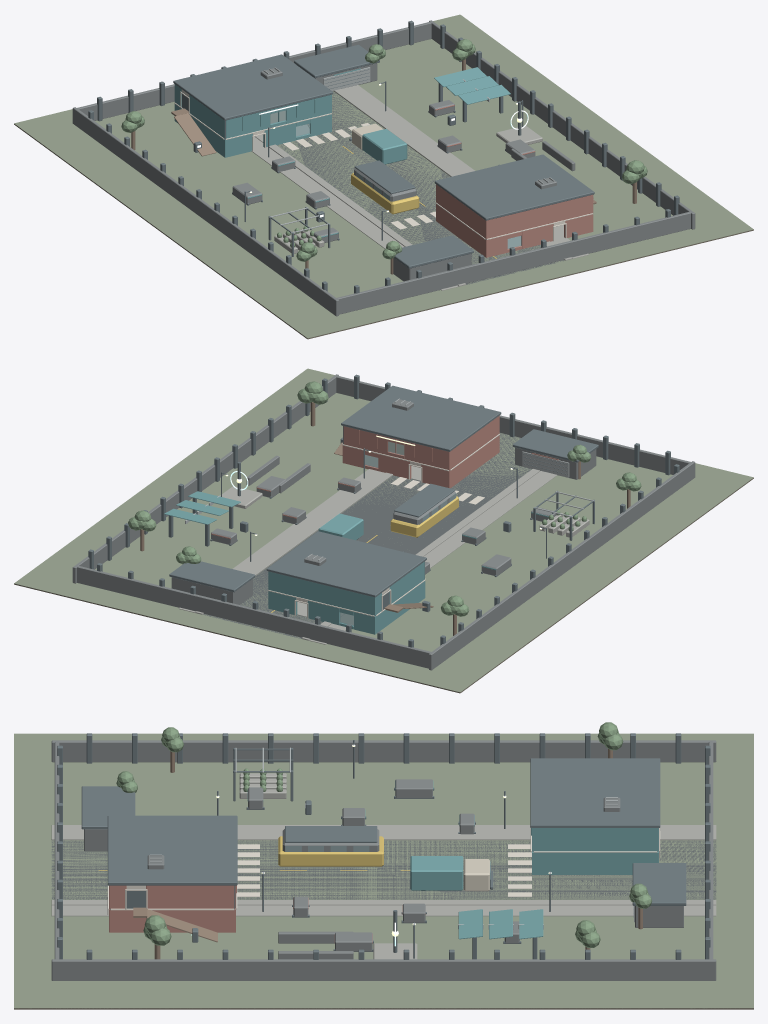
Rendered from atomic-acres-blender-arena.glb.
3 renders of one model, top to bottom at view 1: azimuth 30°, elevation 25°; view 2: azimuth 150°, elevation 25°; view 3: azimuth 270°, elevation 25°, orthographic. The views are drawn at different scales.
Visible parts, largest first — view 1: BLD_BATCH_MAT_ground_olive, BLD_BATCH_MAT_concrete_dark, BLD_BATCH_MAT_gunmetal, BLD_BATCH_MAT_aqua_oxidized, BLD_BATCH_MAT_concrete_weathered, BLD_BATCH_MAT_asphalt_charcoal, BLD_BATCH_MAT_coral_oxide, BLD_BATCH_MAT_foliage_military, BLD_BATCH_MAT_trim_bone, BLD_BATCH_MAT_timber_dark, BLD_BATCH_MAT_earth_edge, BLD_BATCH_MAT_brushed_alloy (+1 smaller); view 2: BLD_BATCH_MAT_ground_olive, BLD_BATCH_MAT_concrete_dark, BLD_BATCH_MAT_gunmetal, BLD_BATCH_MAT_concrete_weathered, BLD_BATCH_MAT_asphalt_charcoal, BLD_BATCH_MAT_aqua_oxidized, BLD_BATCH_MAT_coral_oxide, BLD_BATCH_MAT_foliage_military, BLD_BATCH_MAT_trim_bone, BLD_BATCH_MAT_earth_edge, BLD_BATCH_MAT_brushed_alloy, BLD_BATCH_MAT_timber_dark (+1 smaller); view 3: BLD_BATCH_MAT_ground_olive, BLD_BATCH_MAT_concrete_dark, BLD_BATCH_MAT_gunmetal, BLD_BATCH_MAT_asphalt_charcoal, BLD_BATCH_MAT_concrete_weathered, BLD_BATCH_MAT_aqua_oxidized, BLD_BATCH_MAT_coral_oxide, BLD_BATCH_MAT_foliage_military, BLD_BATCH_MAT_trim_bone, BLD_BATCH_MAT_hazard_amber, BLD_BATCH_MAT_earth_edge, BLD_BATCH_MAT_timber_dark (+1 smaller).
Boxes of the visible parts, x1,y1,x2,y2 form: BLD_BATCH_MAT_ground_olive: [14, 14, 753, 338]; BLD_BATCH_MAT_concrete_dark: [72, 20, 695, 316]; BLD_BATCH_MAT_gunmetal: [88, 20, 679, 293]; BLD_BATCH_MAT_aqua_oxidized: [174, 67, 510, 237]; BLD_BATCH_MAT_concrete_weathered: [251, 85, 589, 290]; BLD_BATCH_MAT_asphalt_charcoal: [277, 92, 564, 284]; BLD_BATCH_MAT_coral_oxide: [435, 105, 593, 257]; BLD_BATCH_MAT_foliage_military: [121, 39, 647, 261]; BLD_BATCH_MAT_trim_bone: [174, 89, 593, 241]; BLD_BATCH_MAT_timber_dark: [131, 59, 636, 274]; BLD_BATCH_MAT_earth_edge: [14, 124, 753, 339]; BLD_BATCH_MAT_brushed_alloy: [263, 67, 554, 233]; BLD_BATCH_MAT_ground_olive: [14, 368, 753, 692]; BLD_BATCH_MAT_concrete_dark: [72, 374, 695, 670]; BLD_BATCH_MAT_gunmetal: [88, 374, 679, 647]; BLD_BATCH_MAT_concrete_weathered: [178, 455, 589, 644]; BLD_BATCH_MAT_asphalt_charcoal: [203, 433, 531, 638]; BLD_BATCH_MAT_aqua_oxidized: [164, 491, 548, 634]; BLD_BATCH_MAT_coral_oxide: [211, 415, 558, 538]; BLD_BATCH_MAT_foliage_military: [128, 381, 641, 616]; BLD_BATCH_MAT_trim_bone: [268, 434, 499, 618]; BLD_BATCH_MAT_earth_edge: [14, 478, 753, 693]; BLD_BATCH_MAT_brushed_alloy: [185, 398, 594, 561]; BLD_BATCH_MAT_timber_dark: [140, 402, 630, 635]; BLD_BATCH_MAT_ground_olive: [14, 733, 753, 1008]; BLD_BATCH_MAT_concrete_dark: [51, 740, 716, 980]; BLD_BATCH_MAT_gunmetal: [57, 733, 710, 959]; BLD_BATCH_MAT_asphalt_charcoal: [51, 840, 716, 899]; BLD_BATCH_MAT_concrete_weathered: [51, 773, 716, 959]; BLD_BATCH_MAT_aqua_oxidized: [247, 781, 658, 939]; BLD_BATCH_MAT_coral_oxide: [109, 885, 425, 943]; BLD_BATCH_MAT_foliage_military: [116, 722, 651, 947]; BLD_BATCH_MAT_trim_bone: [107, 828, 660, 914]; BLD_BATCH_MAT_hazard_amber: [98, 836, 463, 870]; BLD_BATCH_MAT_earth_edge: [14, 1008, 753, 1009]; BLD_BATCH_MAT_timber_dark: [133, 748, 642, 959].
Size of the model in its own units: 86 by 8.52 by 98.
